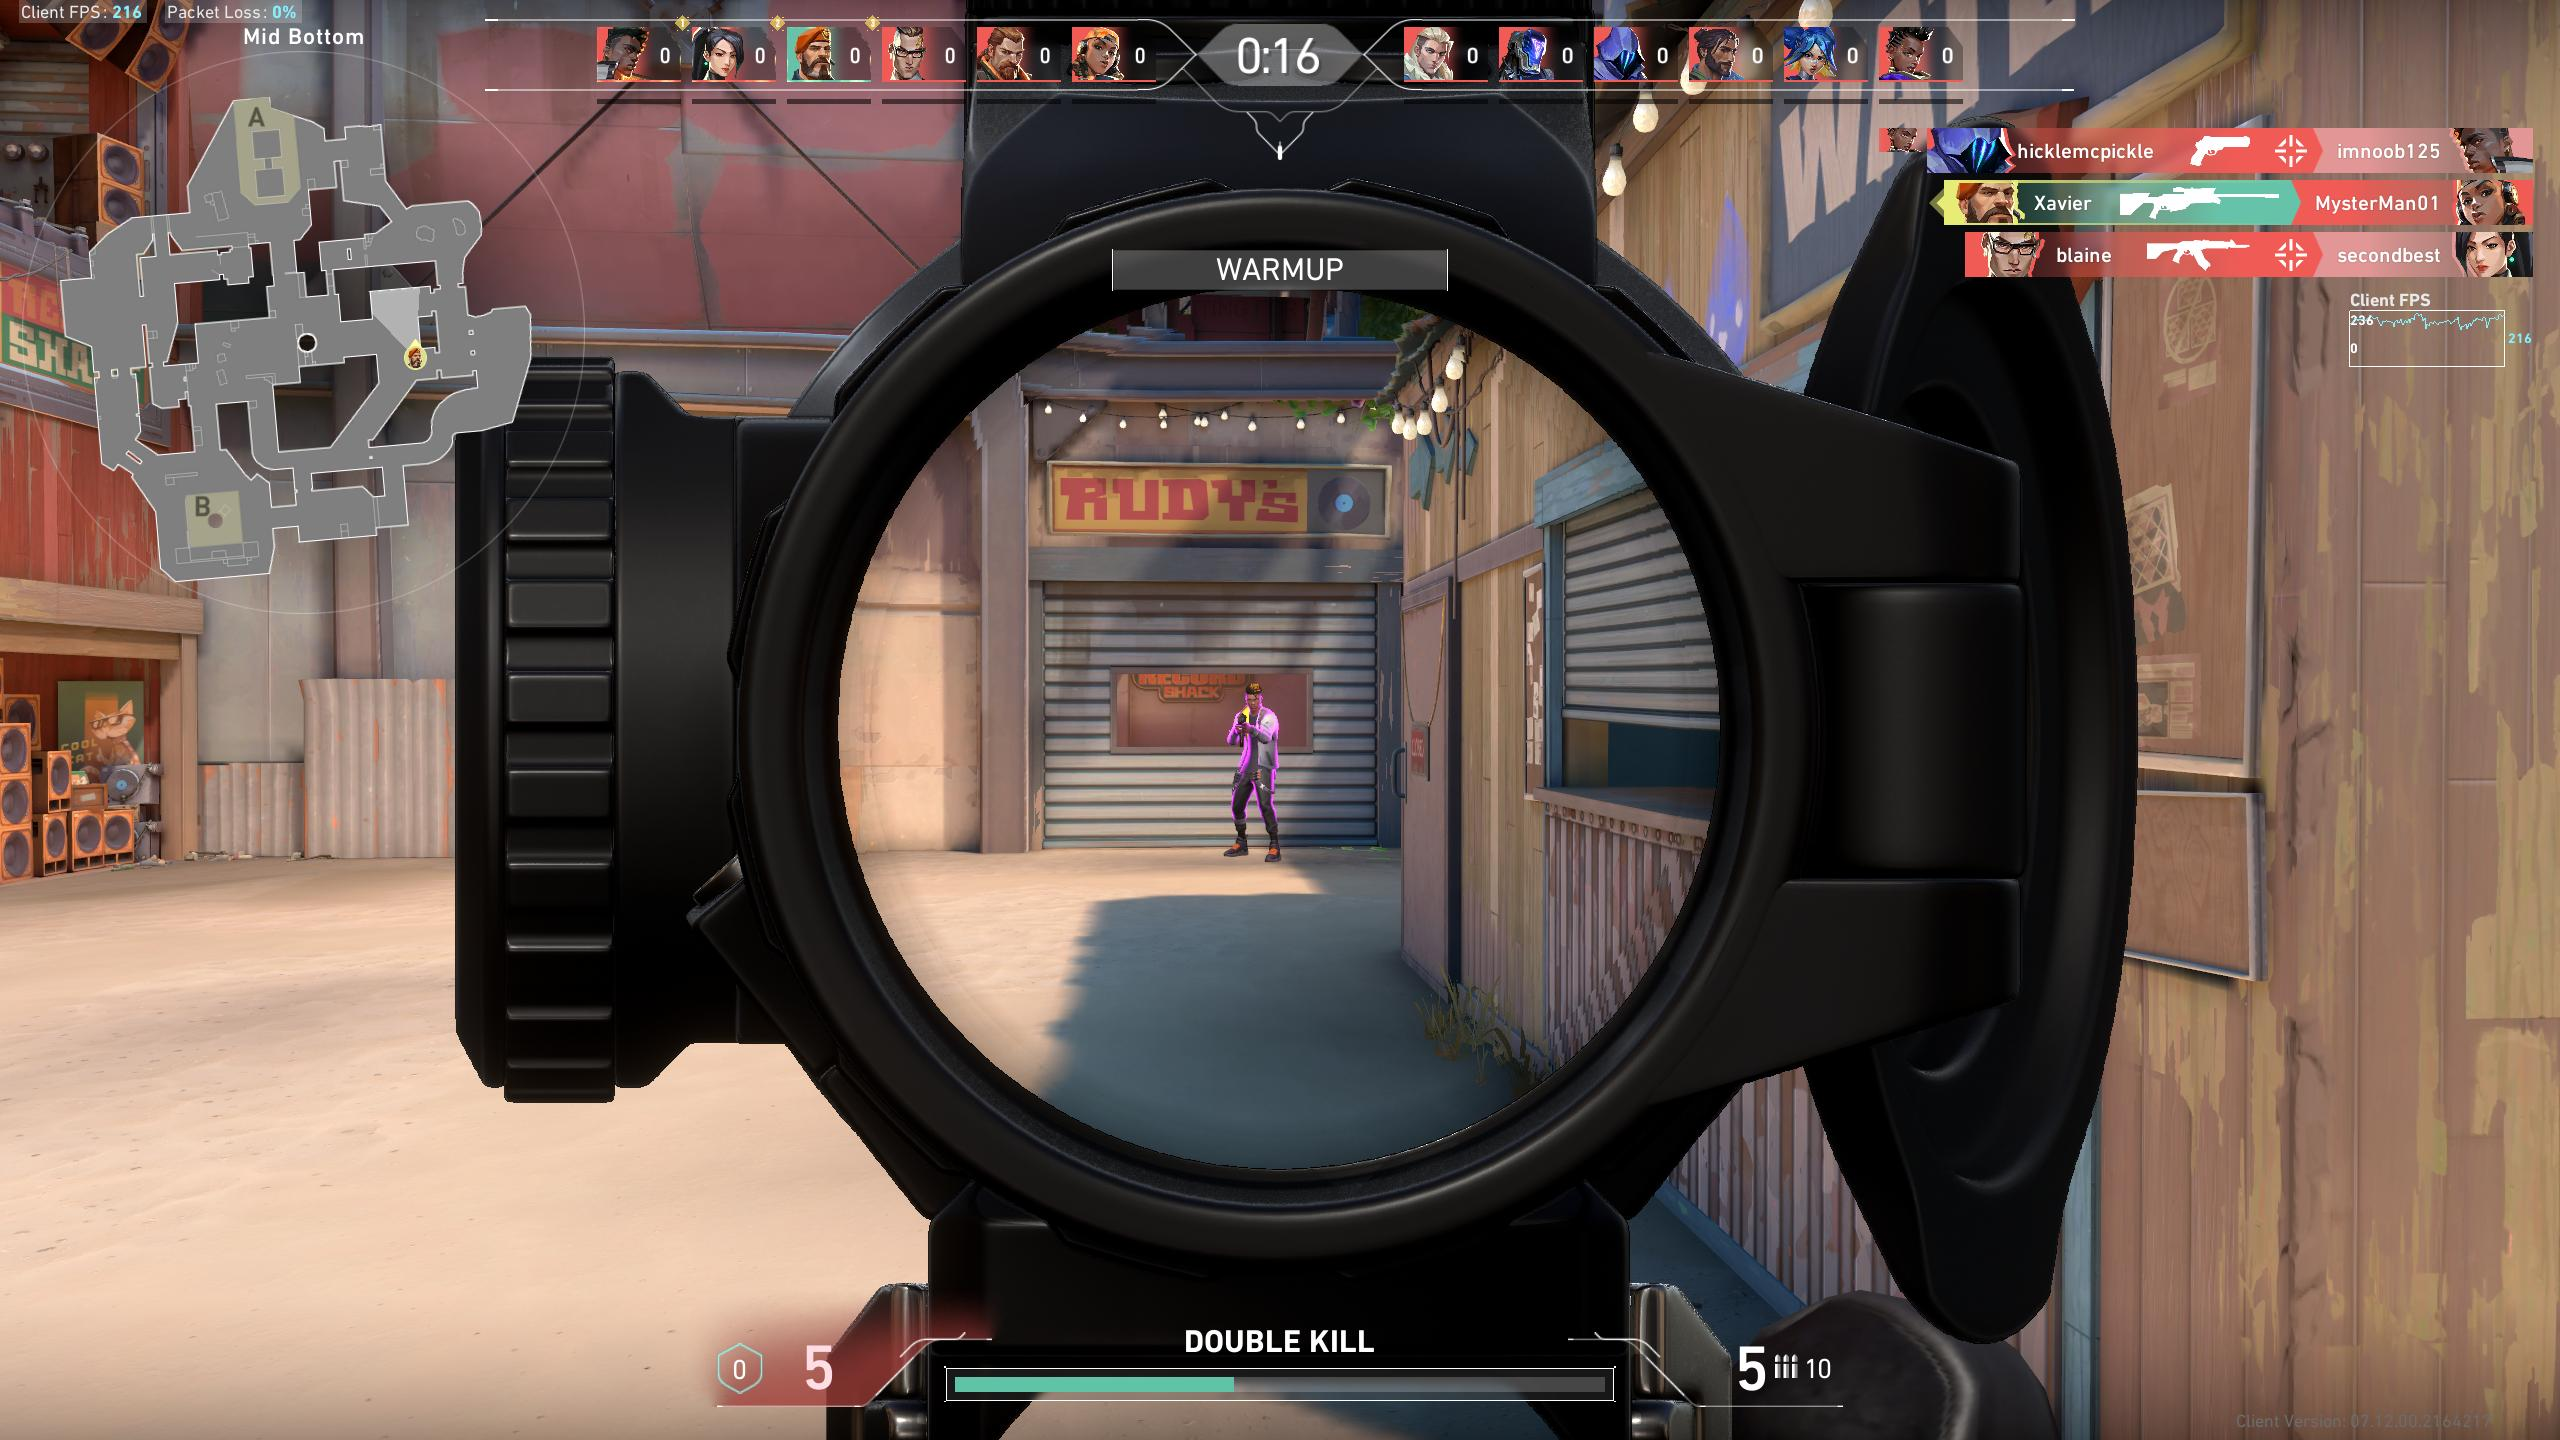enemyBody: (1236, 710, 1284, 782)
enemyHead: (1247, 686, 1268, 705)
